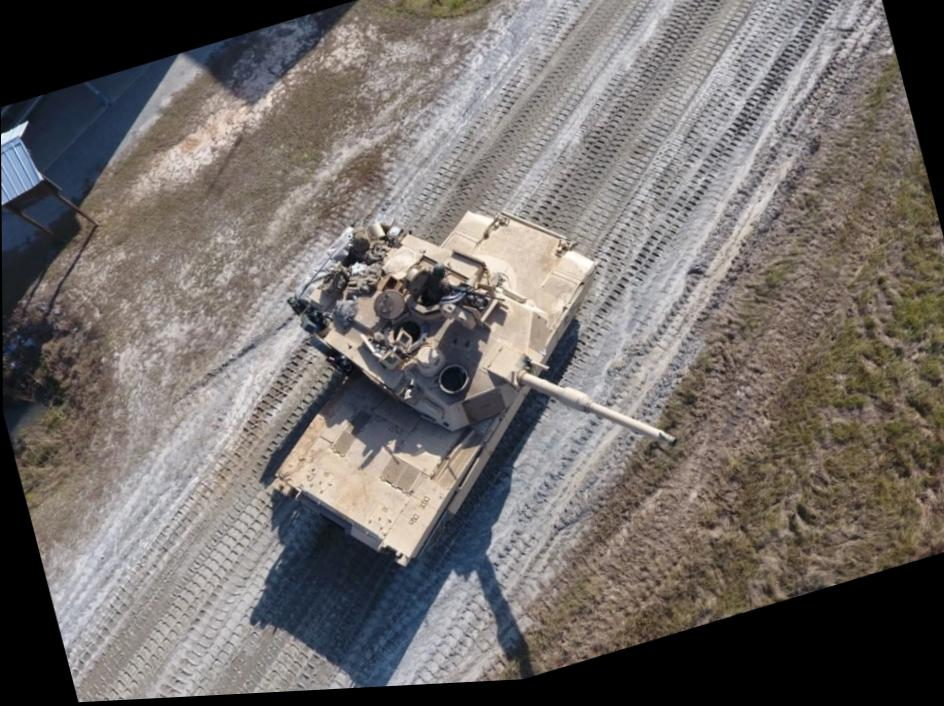tank: (209, 141, 704, 613)
